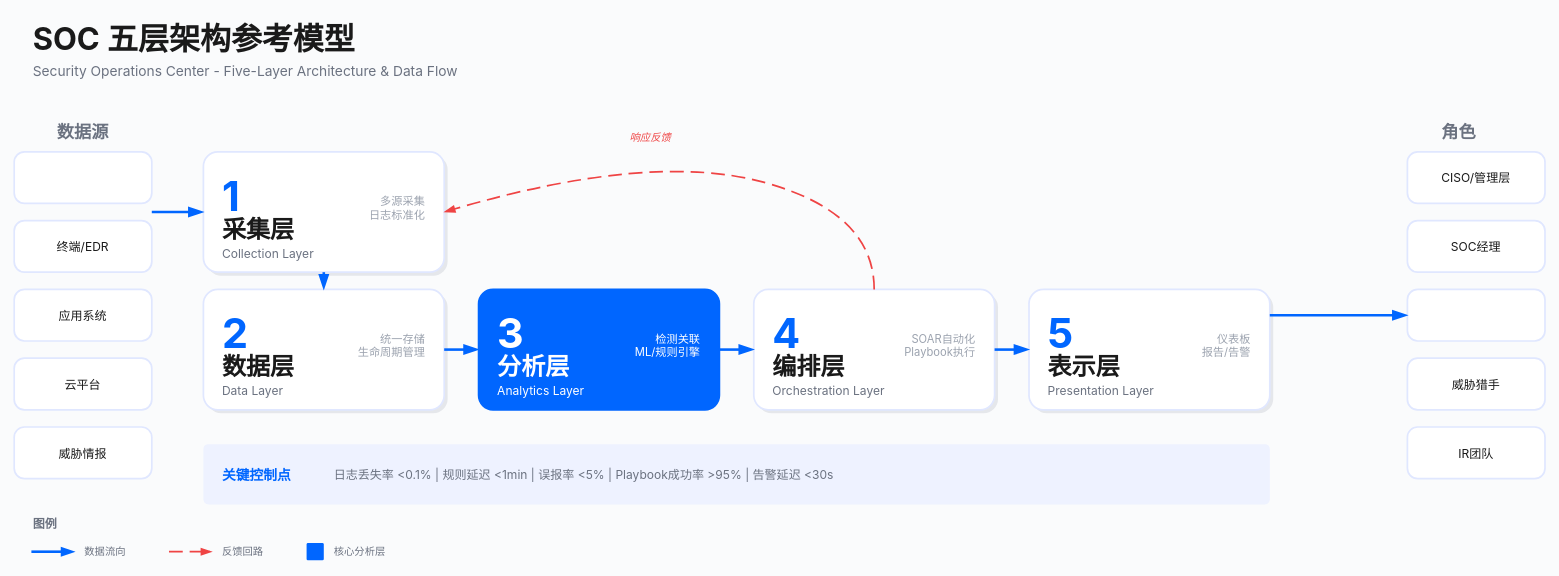
Some shapes in this 1559 by 576 pixel diagram are drawn without their labels. Each missing label, with the box of its shape:
安全分析师: (1406, 288, 1545, 341)
网络设备: (13, 150, 152, 204)
